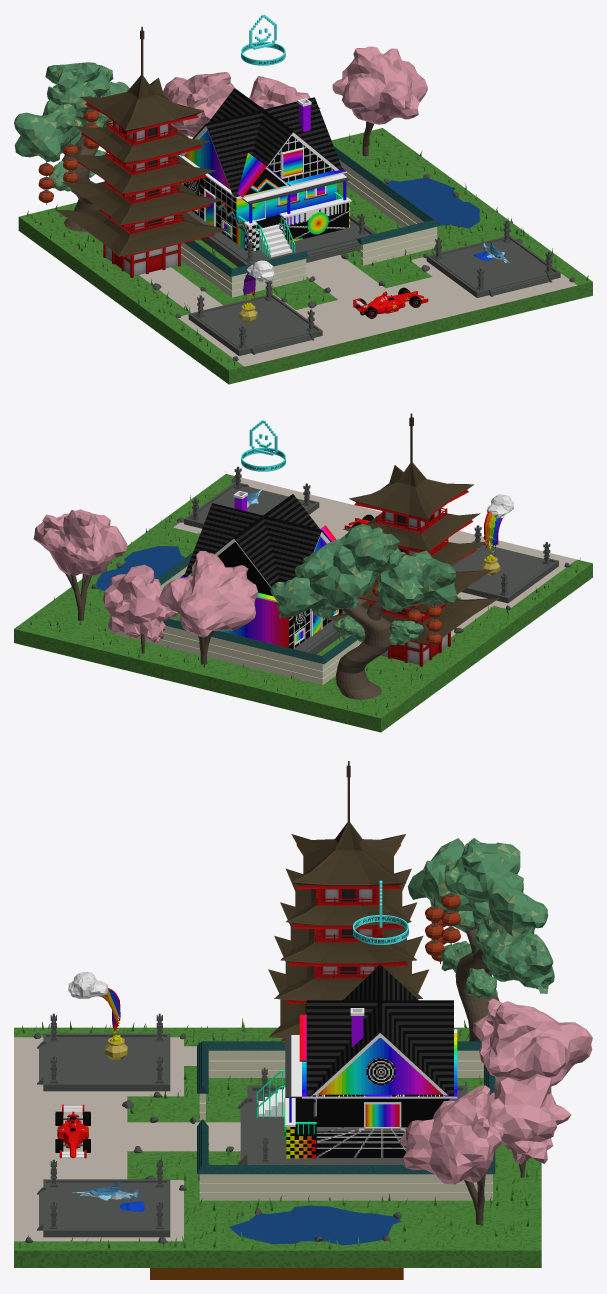
The picture shows the model from 3 angles, top to bottom: view 1: azimuth 30°, elevation 25°; view 2: azimuth 150°, elevation 25°; view 3: azimuth 270°, elevation 25°; orthographic projection. The views are drawn at different scales.
Visible parts, largest first — view 1: Cube.005, Cube.1320, VEHICLES_FORMULA_1, OBJRANDOM_RAINBOW, TYPE_PREMIUM; view 2: Cube.005, Cube.1320, OBJRANDOM_RAINBOW, TYPE_PREMIUM; view 3: Cube.005, Cube.1320, UNDERGROUND_ART_PIECE_VAN_GOGH, OBJRANDOM_RAINBOW, VEHICLES_FORMULA_1, TYPE_PREMIUM, ANIMAL_PEZ_ESPADA.
Boxes of the visible parts, bbox=[...] form: Cube.005: bbox=[14, 26, 592, 384]; Cube.1320: bbox=[177, 88, 351, 258]; VEHICLES_FORMULA_1: bbox=[353, 287, 428, 318]; OBJRANDOM_RAINBOW: bbox=[239, 260, 275, 322]; TYPE_PREMIUM: bbox=[241, 14, 285, 65]; Cube.005: bbox=[14, 413, 592, 732]; Cube.1320: bbox=[180, 491, 343, 648]; OBJRANDOM_RAINBOW: bbox=[482, 494, 513, 575]; TYPE_PREMIUM: bbox=[241, 420, 285, 471]; Cube.005: bbox=[14, 761, 592, 1267]; Cube.1320: bbox=[256, 965, 457, 1158]; UNDERGROUND_ART_PIECE_VAN_GOGH: bbox=[150, 1268, 403, 1279]; OBJRANDOM_RAINBOW: bbox=[68, 971, 127, 1059]; VEHICLES_FORMULA_1: bbox=[55, 1104, 90, 1158]; TYPE_PREMIUM: bbox=[353, 880, 408, 944]; ANIMAL_PEZ_ESPADA: bbox=[71, 1182, 144, 1211].
Size of the model in its own units: 4528 by 2816 by 4389.
Materials: 47 (9 with a texture image).
